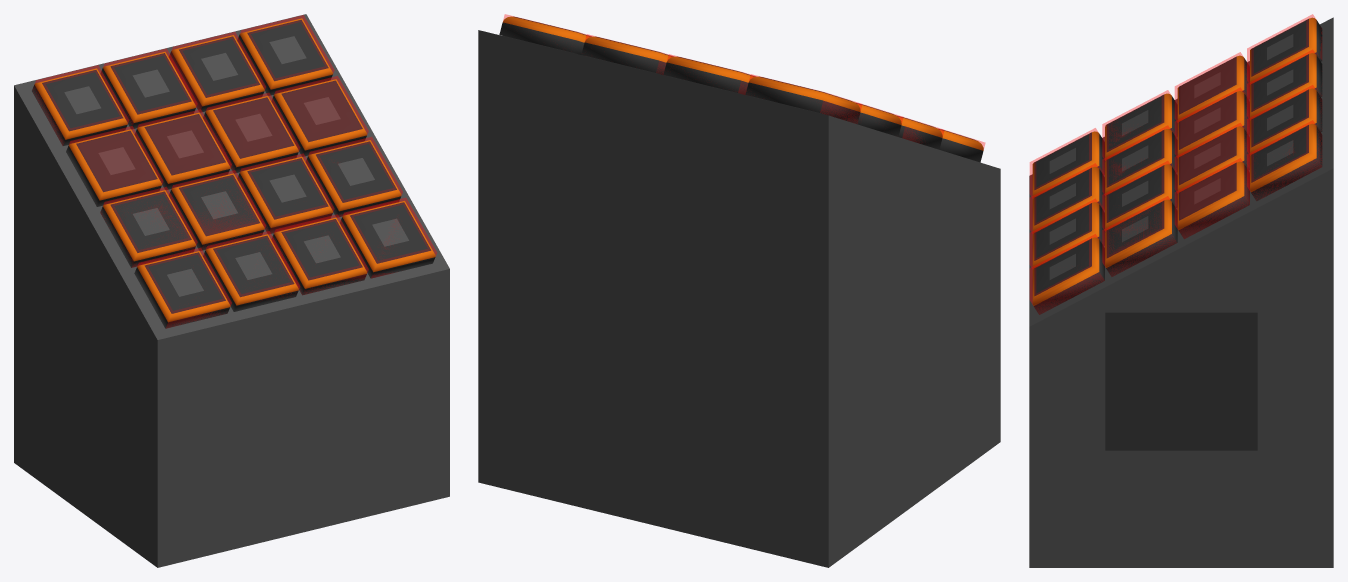
The model's file is Pattern Grid.fbx.
3 views of the same model, side by side, from view 1: azimuth 30°, elevation 25°; view 2: azimuth 150°, elevation 25°; view 3: azimuth 270°, elevation 25° (orthographic). The views are drawn at different scales.
Visible parts, largest first — view 1: Base, B_3_0, B_3_2, B_3_3, B_3_1, B_1_0, B_0_0, B_2_0, B_0_3, B_0_1, B_1_1, B_0_2 (+21 smaller); view 2: Base, B_0_0, B_0_3, B_0_2, B_0_1, IN, B_1_0, B_2_0, B_3_0, IN.001, IN.002, IN.003; view 3: Base, Door, B_3_3, B_1_3, B_0_3, B_2_3, IN.007, B_3_0, B_1_1, B_2_0, B_2_2, B_0_0 (+22 smaller).
Part boxes in pixels (box(x1,y1,x2,y2)): Base: box(14, 14, 449, 567); B_3_0: box(134, 251, 230, 328); B_3_2: box(271, 217, 366, 295); B_3_3: box(340, 200, 435, 278); B_3_1: box(203, 234, 298, 311); B_1_0: box(66, 129, 161, 206); B_0_0: box(32, 68, 127, 145); B_2_0: box(100, 190, 195, 267); B_0_3: box(237, 18, 332, 95); B_0_1: box(100, 51, 195, 129); B_1_1: box(134, 112, 230, 189); B_0_2: box(169, 35, 264, 112); Base: box(478, 30, 1000, 567); B_0_0: box(745, 76, 860, 123); B_0_3: box(499, 16, 591, 55); B_0_2: box(581, 36, 673, 74); B_0_1: box(663, 56, 755, 95); IN: box(749, 74, 862, 122); B_1_0: box(856, 103, 901, 136); B_2_0: box(897, 116, 942, 149); B_3_0: box(938, 129, 983, 162); IN.001: box(667, 54, 755, 94); IN.002: box(585, 34, 673, 74); IN.003: box(503, 14, 591, 41); Base: box(1029, 17, 1333, 567); Door: box(1105, 309, 1257, 450); B_3_3: box(1032, 237, 1104, 314); B_1_3: box(1177, 161, 1249, 239); B_0_3: box(1250, 123, 1322, 201); B_2_3: box(1105, 199, 1177, 276); IN.007: box(1175, 158, 1249, 238); B_3_0: box(1032, 131, 1104, 198); B_1_1: box(1177, 91, 1249, 157); B_2_0: box(1105, 93, 1177, 160); B_2_2: box(1105, 164, 1177, 230); B_0_0: box(1250, 17, 1322, 84).
Size of the model in its own units: 96 by 119 by 80.
